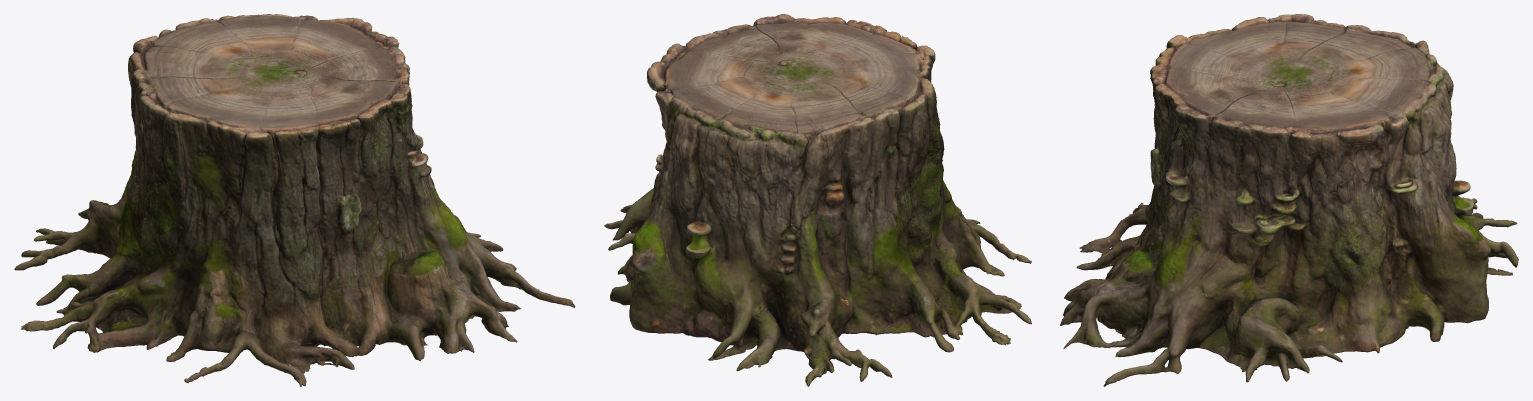
Rendered from yemek_modeli-v1.glb.
3 renders of one model, left to right at view 1: azimuth 30°, elevation 25°; view 2: azimuth 150°, elevation 25°; view 3: azimuth 270°, elevation 25°, orthographic. The views are drawn at different scales.
Bounding box in the file's own units: 1.98 × 0.9311 × 1.79.
1 material, 1 textured.
